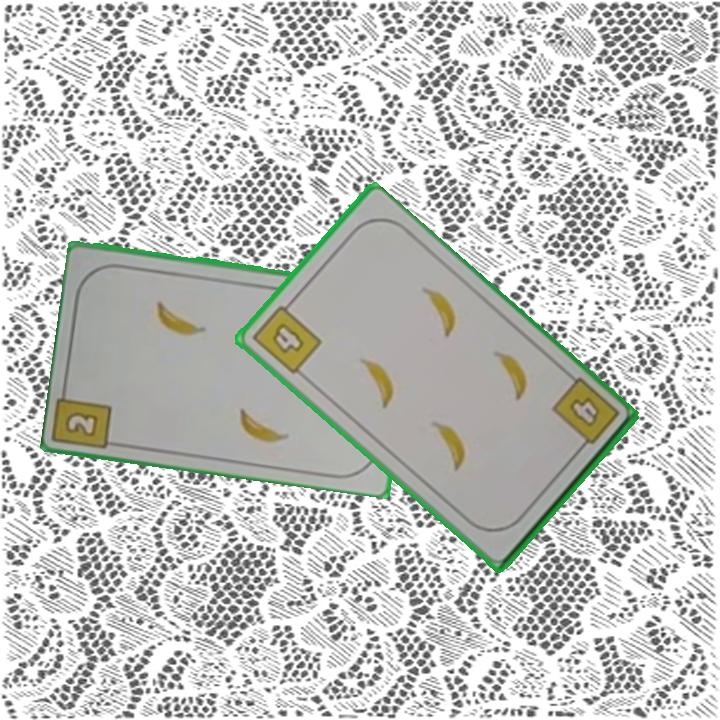2b: (61, 408, 102, 440)
4b: (248, 296, 325, 377), (548, 374, 622, 457)
